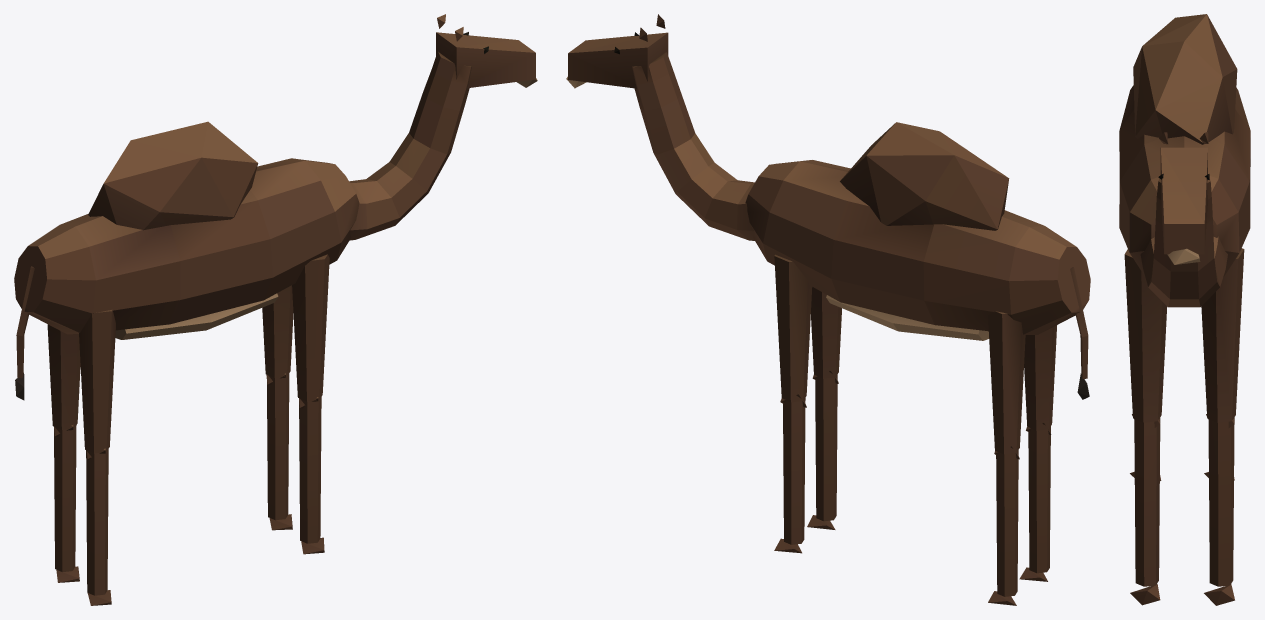
The model's file is mt_camel_brown.glb.
The picture shows the model from 3 angles, left to right: view 1: azimuth 30°, elevation 25°; view 2: azimuth 150°, elevation 25°; view 3: azimuth 270°, elevation 25°; orthographic projection. The views are drawn at different scales.
Visible parts, largest first — view 1: base, head_m, leg3_m, leg1_m, leg2_m, leg0_m, tail_m; view 2: base, head_m, leg2_m, leg0_m, leg3_m, leg1_m, tail_m; view 3: base, head_m, leg0_m, leg1_m.
Boxes of the visible parts, x1,y1,x2,y2 form: base: [14, 121, 359, 339]; head_m: [349, 14, 537, 240]; leg3_m: [79, 309, 115, 605]; leg1_m: [292, 254, 329, 554]; leg2_m: [47, 324, 80, 582]; leg0_m: [262, 285, 293, 530]; tail_m: [15, 266, 34, 400]; base: [745, 122, 1090, 340]; head_m: [566, 14, 754, 240]; leg2_m: [988, 311, 1025, 605]; leg0_m: [774, 254, 812, 553]; leg3_m: [1019, 325, 1056, 581]; leg1_m: [807, 287, 841, 529]; tail_m: [1070, 267, 1089, 399]; base: [1119, 14, 1250, 277]; head_m: [1140, 132, 1227, 307]; leg0_m: [1201, 248, 1244, 605]; leg1_m: [1124, 249, 1167, 605].
Size of the model in its own units: 1.02 by 0.911 by 0.1945.
